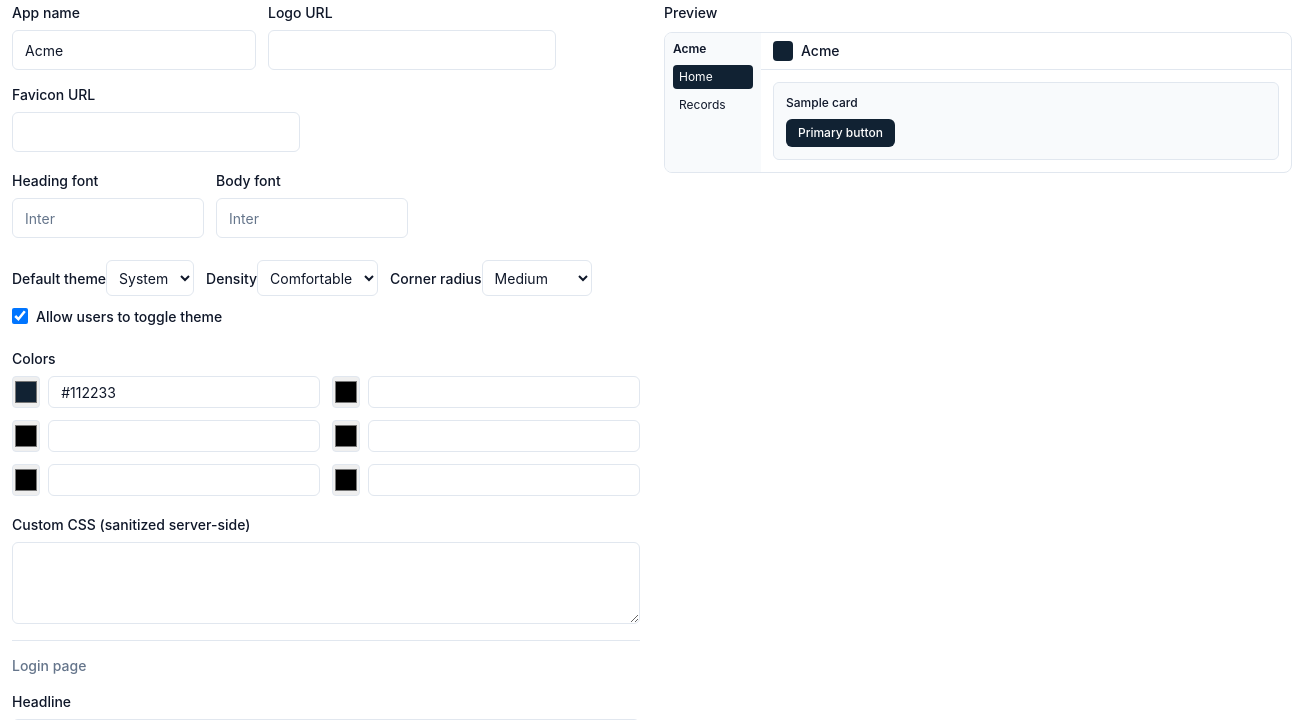
Test: BrandingSettings › live preview reflects unsaved app name
Replace the text in the field labelled "App name" with "Acme Corp" at (134, 50), box 12,30 -> 256,70
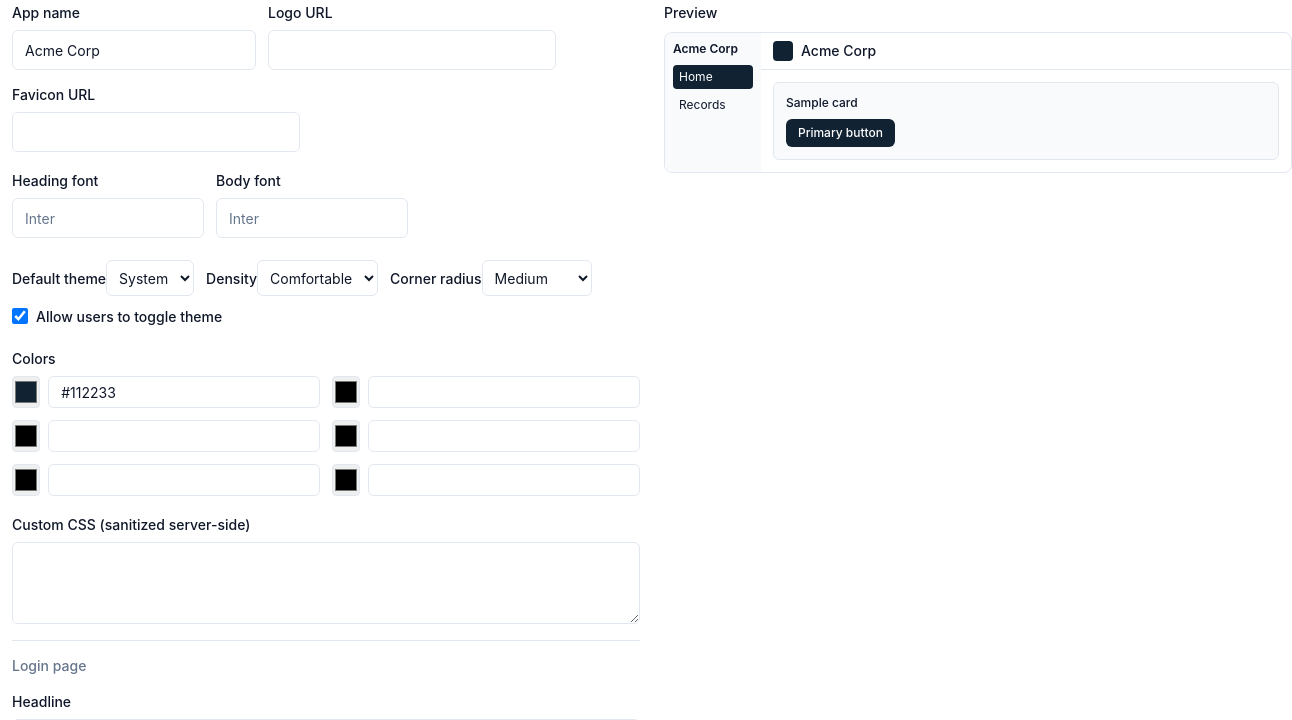
Expected: the 1st text "Acme Corp" is shown, 673,41 -> 738,56
